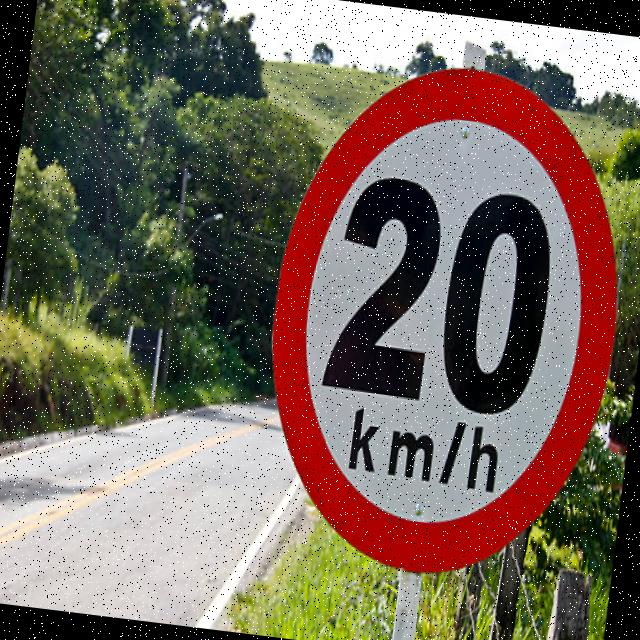speed_limit_20: (241, 43, 640, 590)
